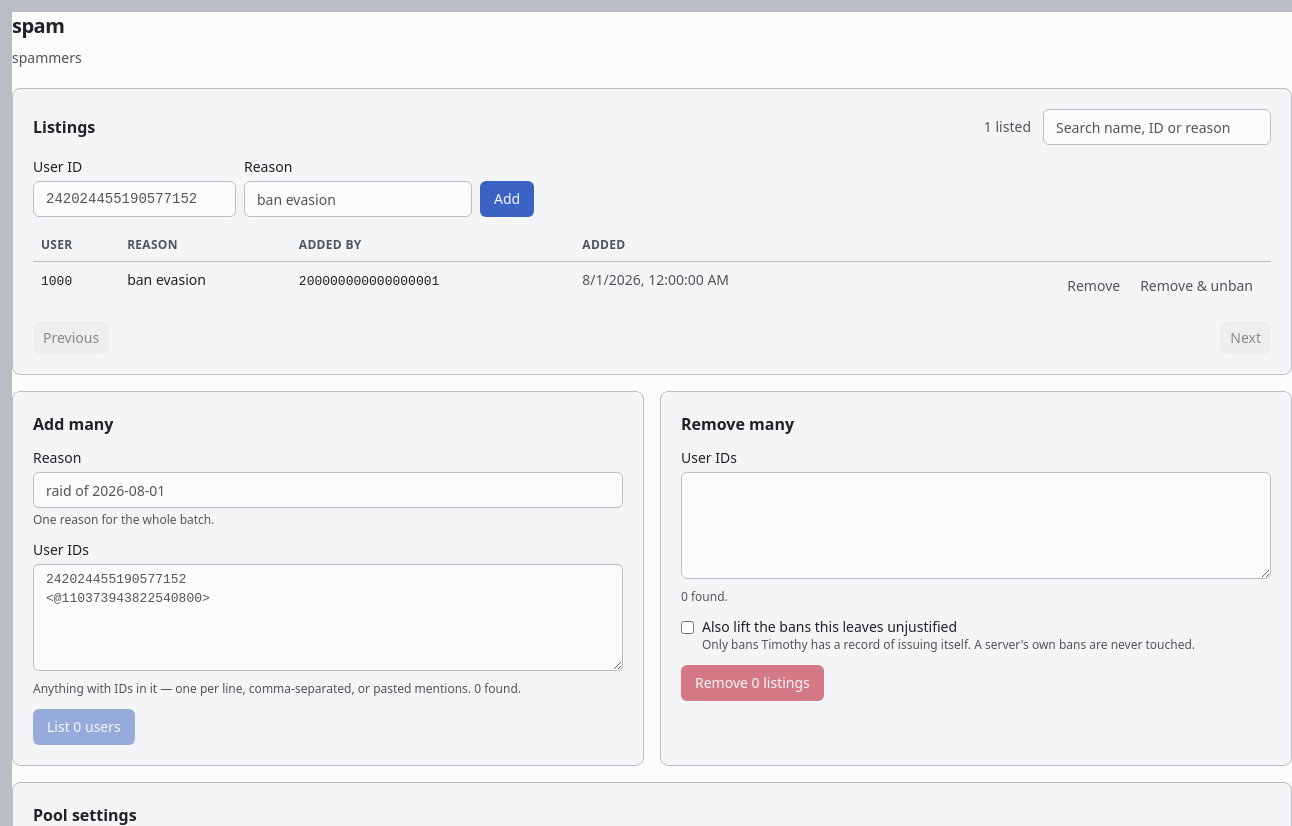
Test: the listing table › says plainly when a search matched nothing
The image size is (1292, 826).
Check: the text "1000" is shown, box [41,274,72,289]
Type "nobody" into the search field.
click(1157, 127); type("nobody")  # box [1043,109,1271,145]
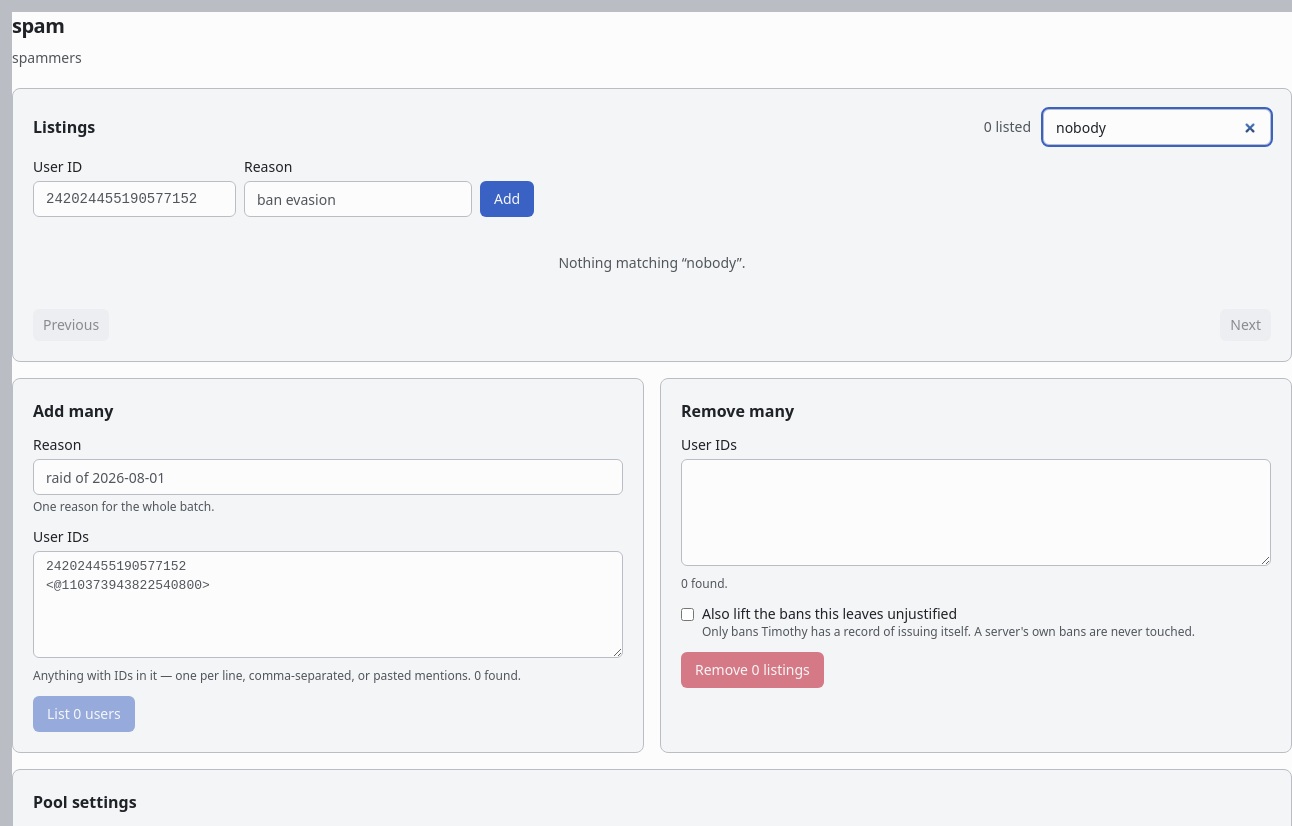
Check: the text "Nothing matching “nobody”." is shown, box [558,253,746,272]
